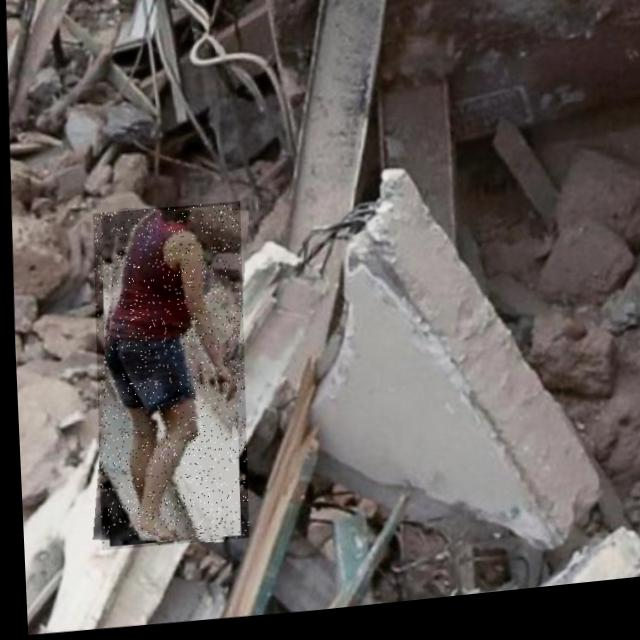Person in Rubble: (84, 203, 249, 554)
